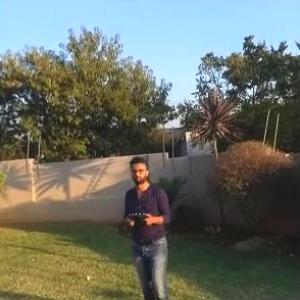follow: (122, 153, 176, 299)
